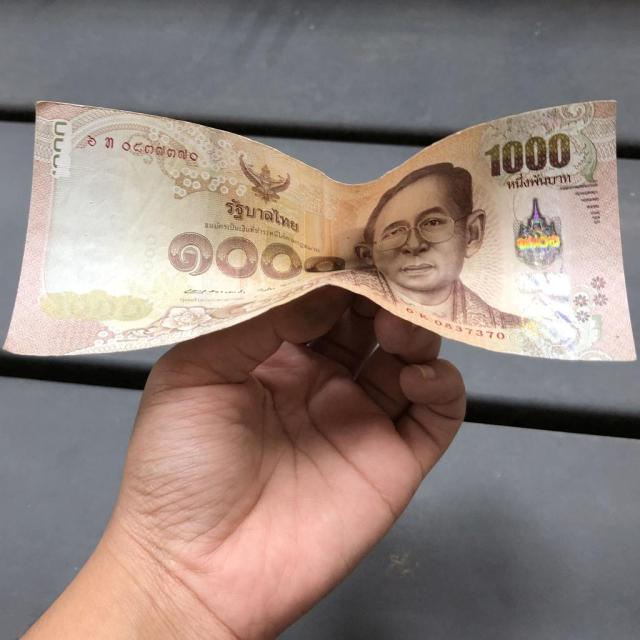THAI1000: (0, 101, 632, 362)
